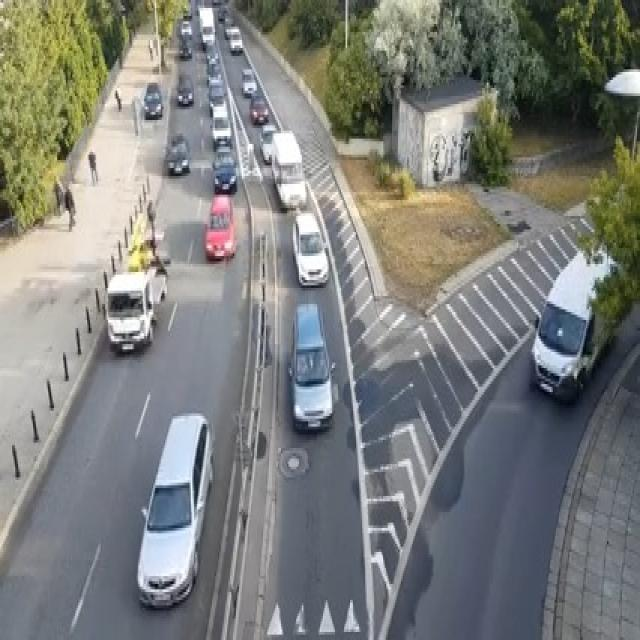car: (136, 411, 213, 608), (287, 301, 333, 432), (291, 208, 329, 285), (270, 131, 306, 208), (126, 240, 167, 304), (204, 192, 236, 259), (212, 147, 236, 192), (164, 131, 189, 173), (210, 106, 232, 146), (258, 122, 276, 162), (143, 80, 162, 117), (249, 90, 269, 122), (176, 72, 192, 104), (240, 67, 257, 96), (228, 30, 242, 54), (179, 40, 191, 59), (180, 19, 192, 37), (218, 3, 228, 21), (182, 5, 192, 19)
truck: (529, 242, 623, 402)
